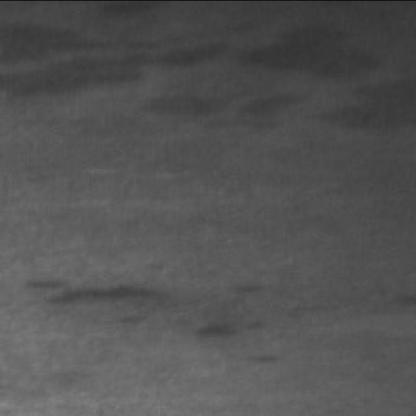inclusion: (8, 6, 277, 92), (8, 266, 283, 348), (144, 85, 395, 146)
